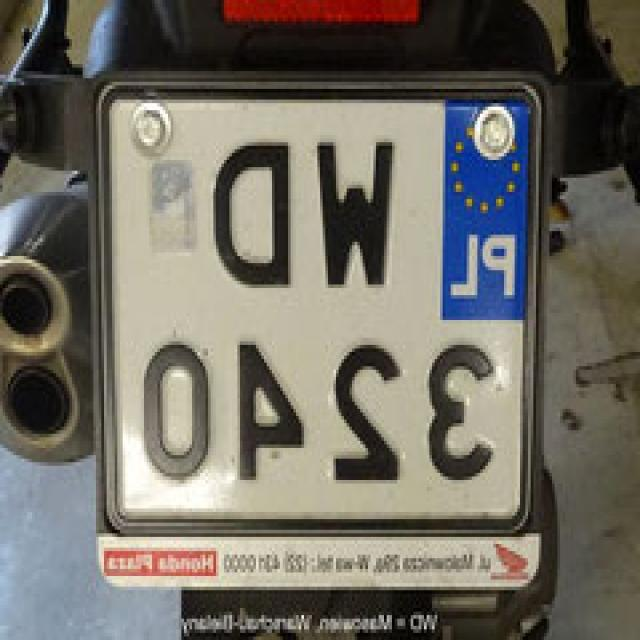pl_license_plate: (120, 96, 528, 516)
